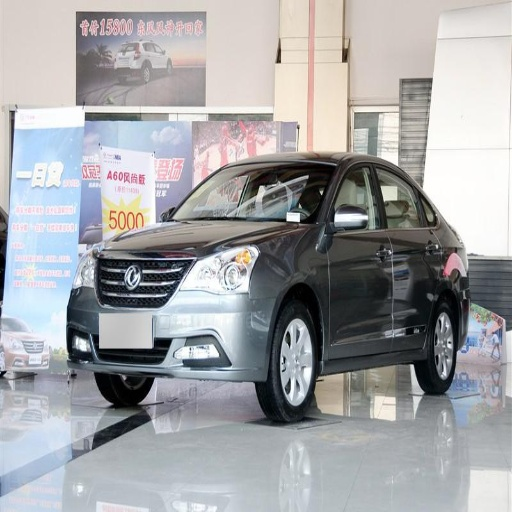front_bumper: (65, 250, 278, 381)
front_glass: (173, 164, 332, 222)
front_left_door: (326, 160, 393, 350)
